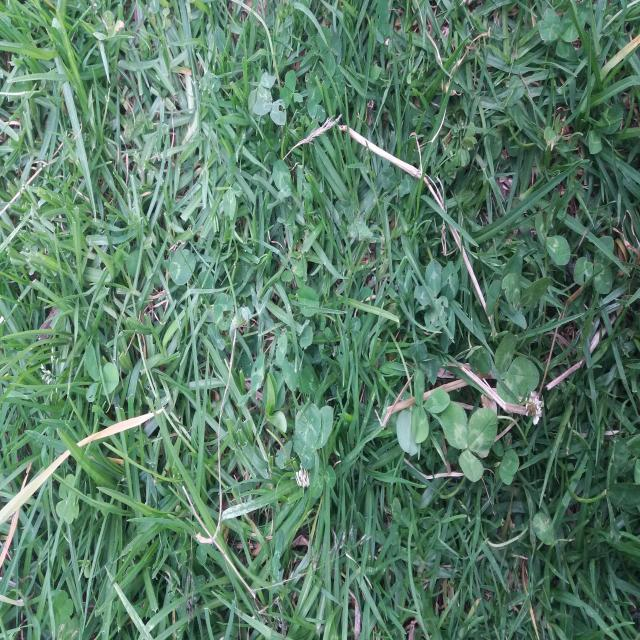Four Leaf Clover: (293, 403, 333, 487)
